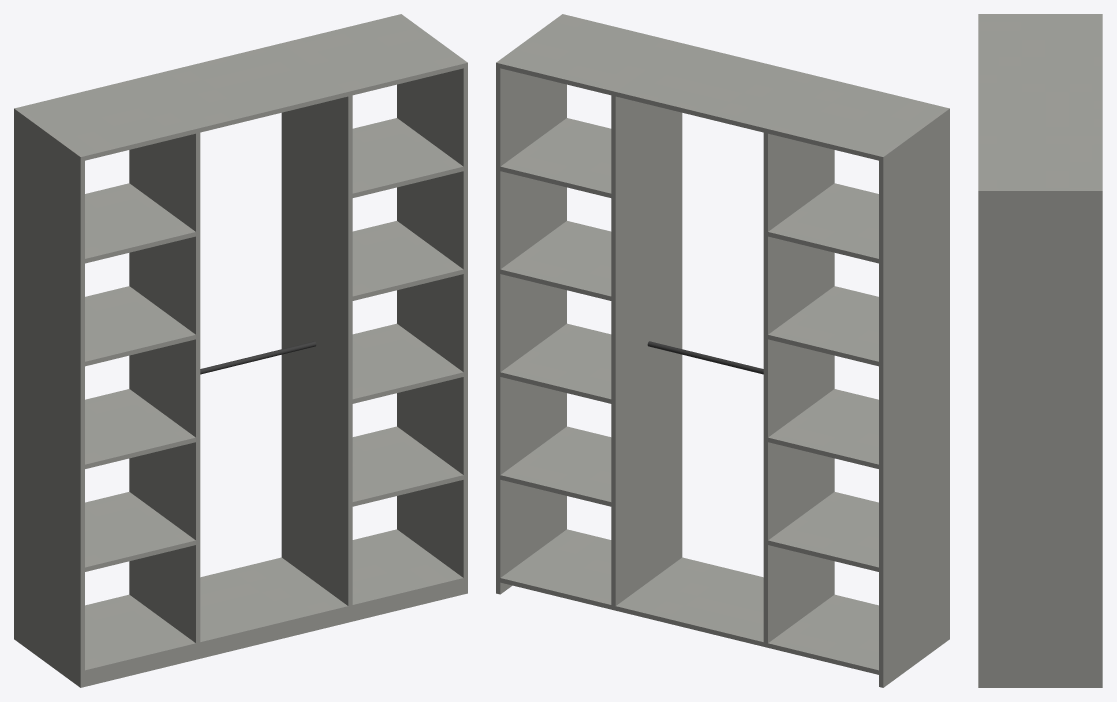
Rendered from meuble.glb.
The picture shows the model from 3 angles, left to right: view 1: azimuth 30°, elevation 25°; view 2: azimuth 150°, elevation 25°; view 3: azimuth 270°, elevation 25°; orthographic projection. The views are drawn at different scales.
Parts seen in each view (by area): view 1: world; view 2: world; view 3: world.
Boxes of the visible parts, x1,y1,x2,y2 form: world: (14, 14, 467, 687); world: (496, 14, 949, 687); world: (978, 14, 1102, 687).
Bounding box in the file's own units: 1.68 × 2.2 × 0.5.
Materials: 1 (1 with a texture image).
